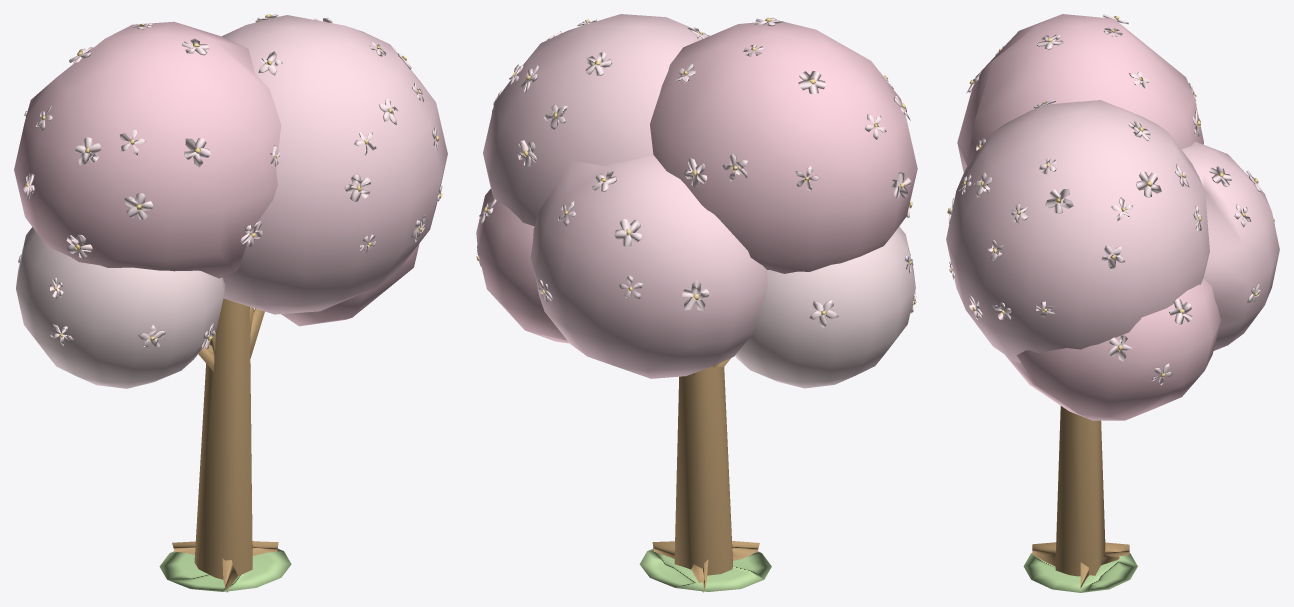
Rendered from tree_v2_spring_low.glb.
3 views of the same model, side by side, from view 1: azimuth 30°, elevation 25°; view 2: azimuth 150°, elevation 25°; view 3: azimuth 270°, elevation 25° (orthographic). The views are drawn at different scales.
Size of the model in its own units: 3.88 by 5.05 by 2.97.
